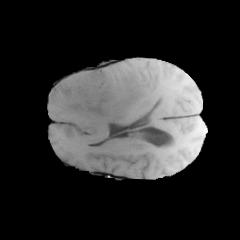glioma: (50, 66, 149, 142)
